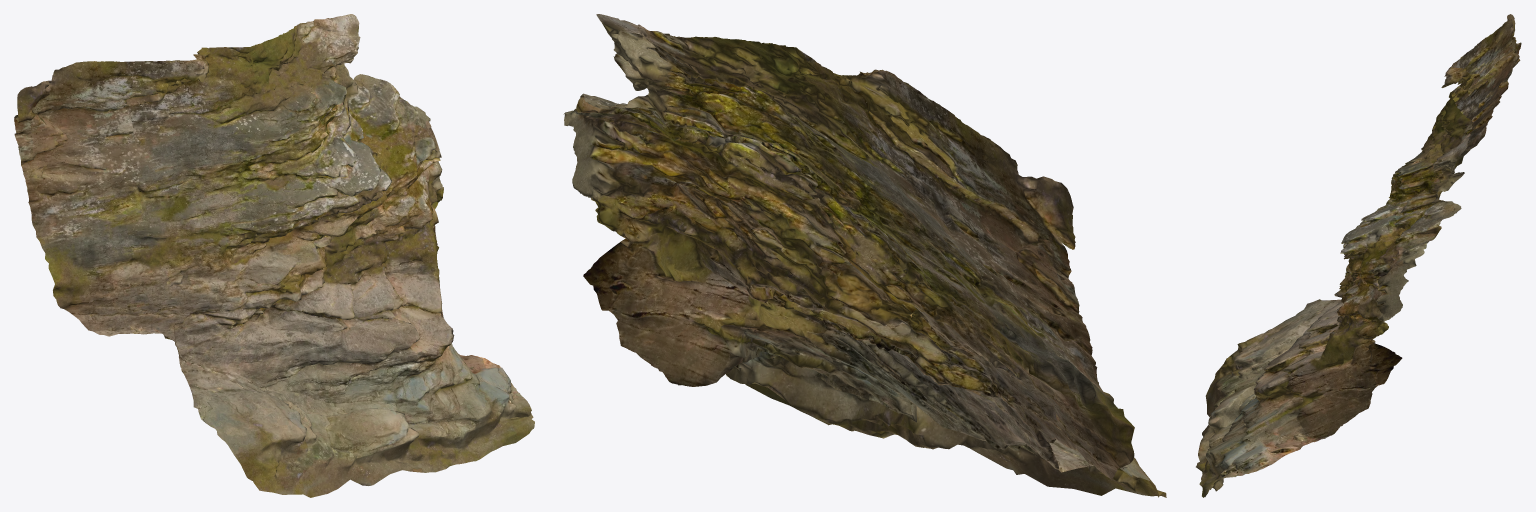
File: wall.glb
3 renders of one model, left to right at view 1: azimuth 30°, elevation 25°; view 2: azimuth 150°, elevation 25°; view 3: azimuth 270°, elevation 25°, orthographic. The views are drawn at different scales.
Parts seen in each view (by area): view 1: rock_face_02; view 2: rock_face_02; view 3: rock_face_02.
Part boxes in pixels (bbox=[...]): rock_face_02: bbox=[14, 14, 534, 497]; rock_face_02: bbox=[563, 14, 1166, 497]; rock_face_02: bbox=[1196, 14, 1521, 497].
Size of the model in its own units: 2.71 by 2.47 by 2.13.
Materials: 1 (1 with a texture image).
